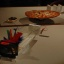pizza: (26, 7, 59, 21)
